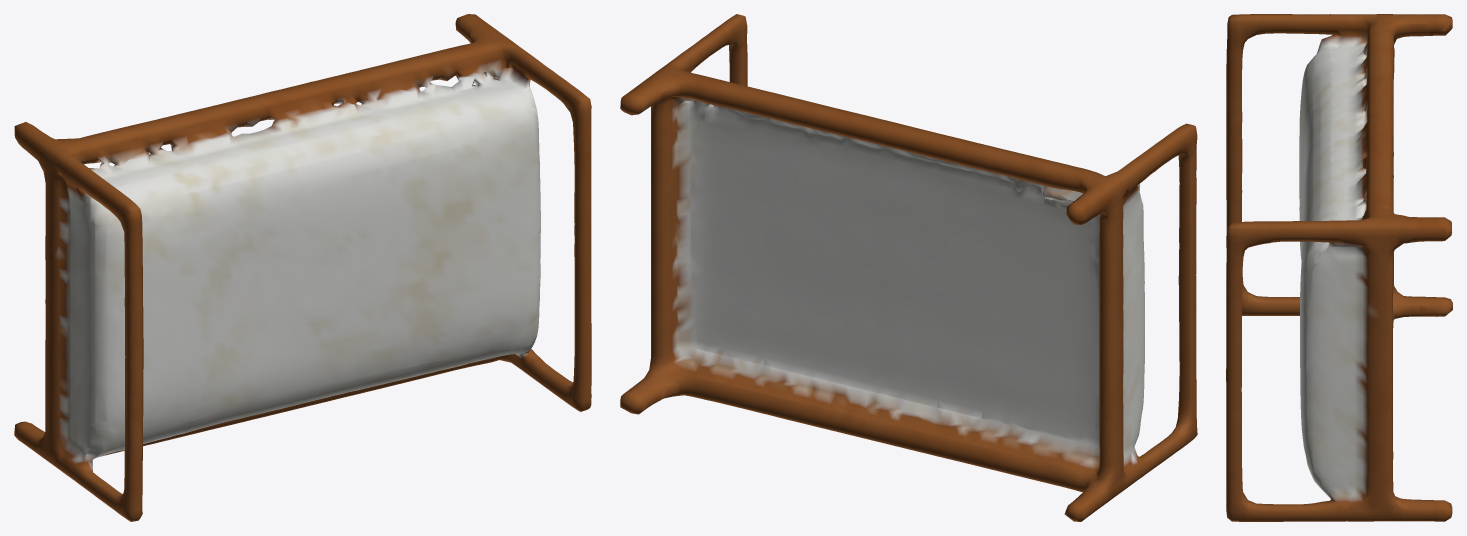
The model's file is a bed with support affordance.obj.
3 renders of one model, left to right at view 1: azimuth 30°, elevation 25°; view 2: azimuth 150°, elevation 25°; view 3: azimuth 270°, elevation 25°, orthographic. The views are drawn at different scales.
Size of the model in its own units: 1 by 0.6577 by 0.4484.
